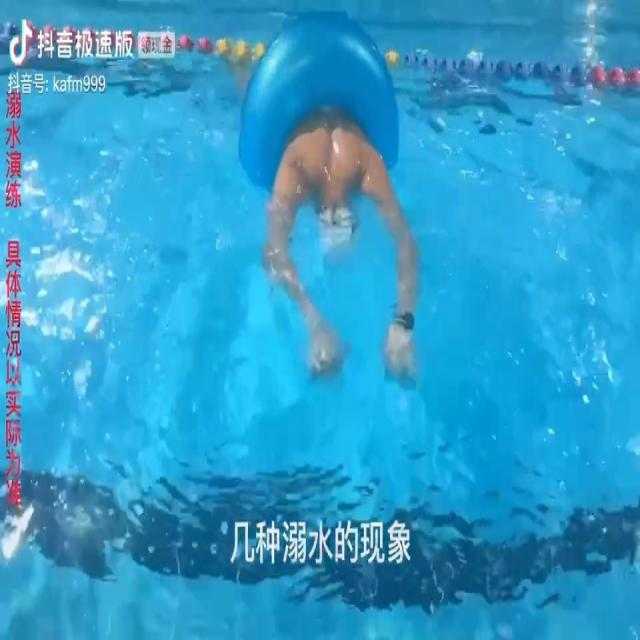Drowning: (257, 108, 428, 389)
